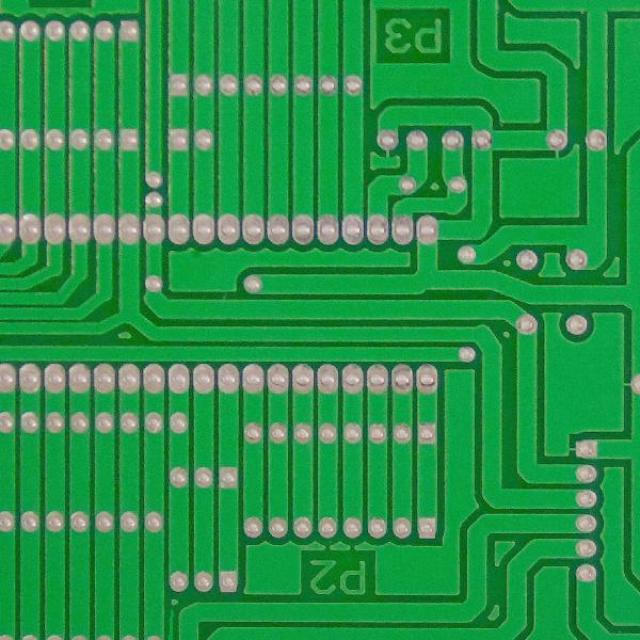Spurious_Cooper: (165, 608, 176, 639)
